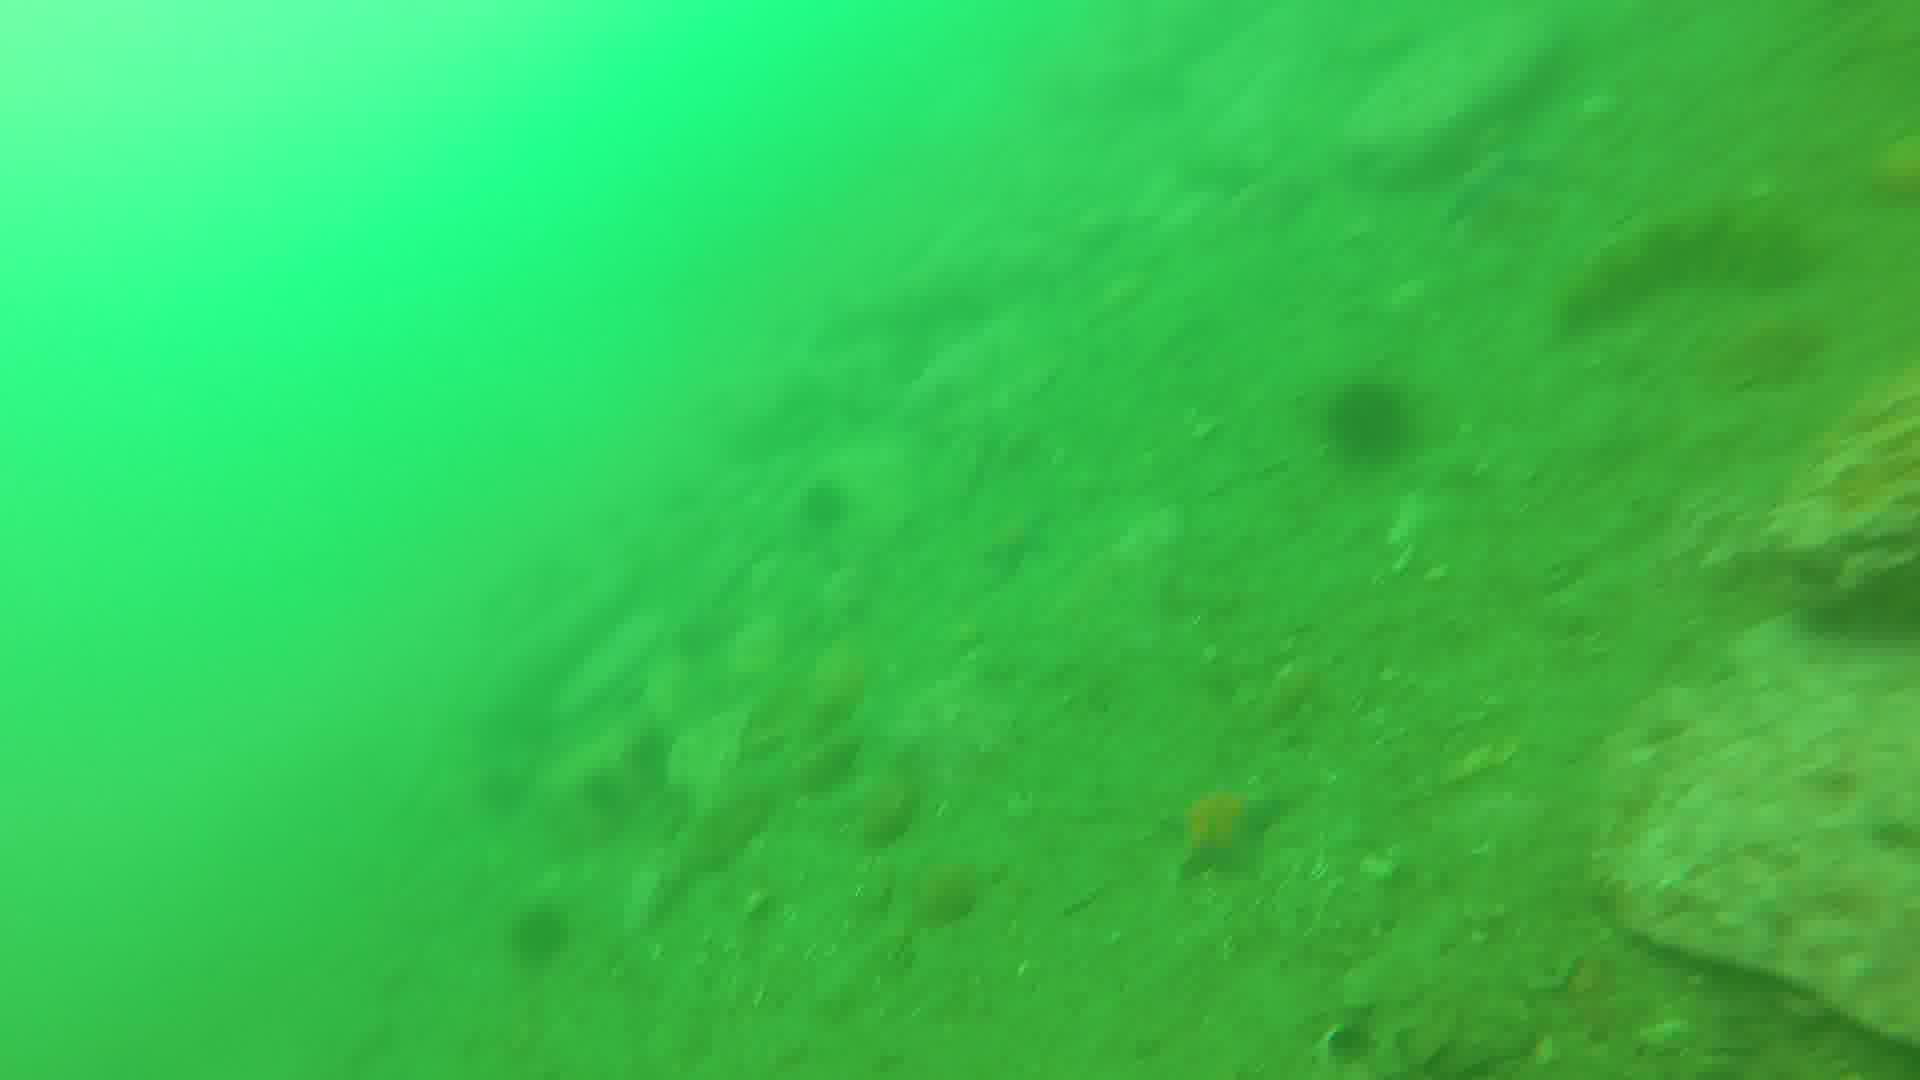echinus: (1323, 390, 1403, 465), (508, 906, 568, 969)
holothurian: (1564, 204, 1804, 339)
starfish: (1180, 778, 1280, 887)
